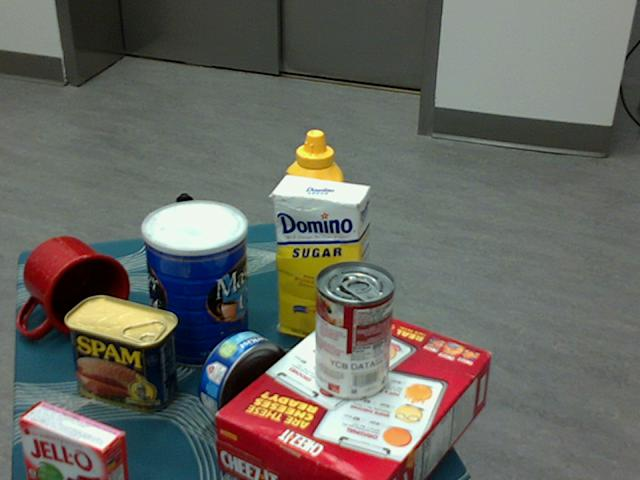cracker_box: (215, 304, 491, 479)
gelatin_box: (17, 398, 126, 479)
large_marker: (176, 192, 196, 290)
master_chef_can: (141, 200, 248, 369)
mug: (20, 235, 129, 337)
mustard_bottle: (283, 129, 341, 305)
potted_meat_can: (64, 293, 176, 410)
sugar_box: (272, 174, 370, 350)
tomato_soup_can: (312, 262, 394, 402)
tuna_fish_can: (198, 331, 289, 429)
